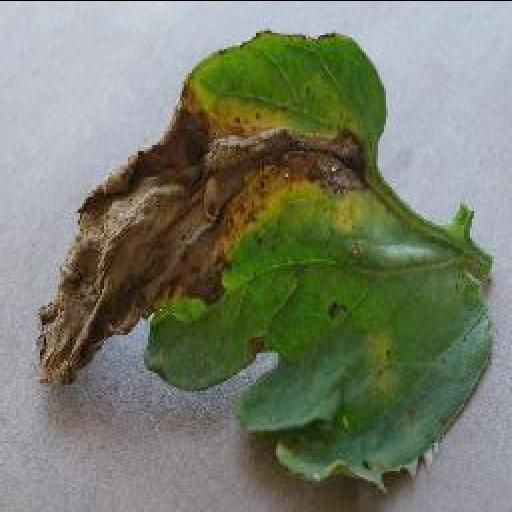disease_tomato: (38, 30, 498, 486)
